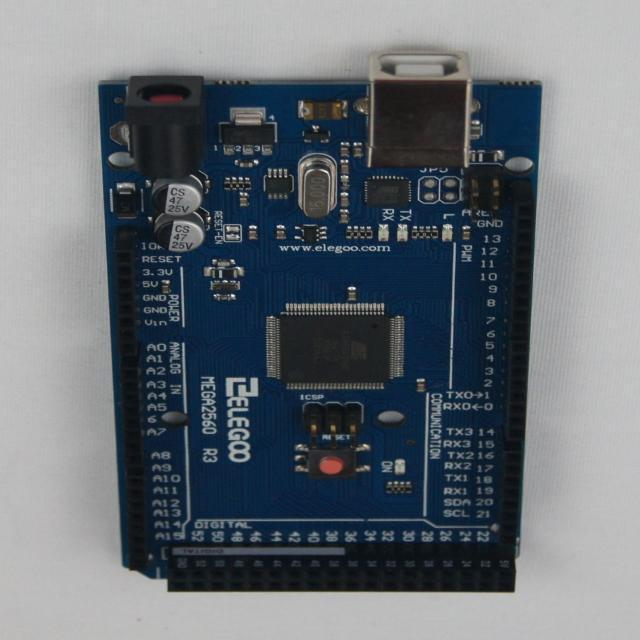Arduino Mega 2560 -Blue-: (100, 50, 542, 593)
